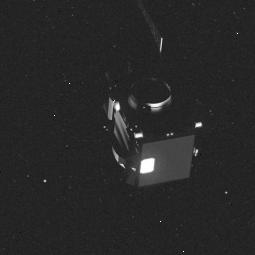proba_3_csc: (100, 0, 208, 189)
